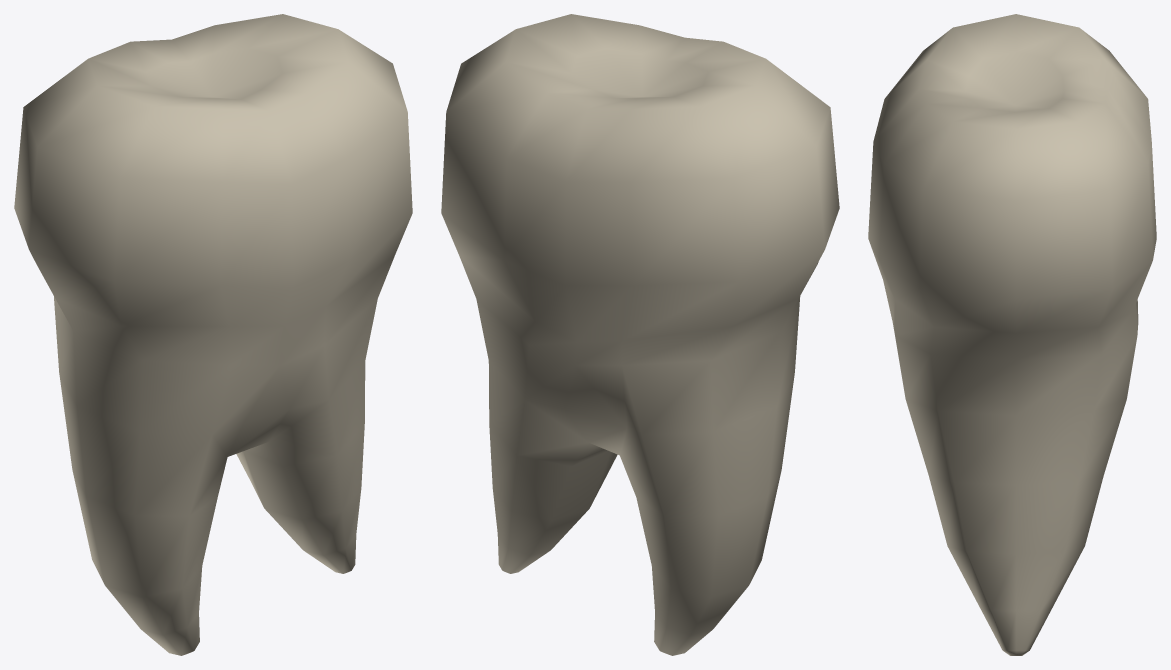
File: Tooth_01.fbx
3 views of the same model, side by side, from view 1: azimuth 30°, elevation 25°; view 2: azimuth 150°, elevation 25°; view 3: azimuth 270°, elevation 25° (orthographic). The views are drawn at different scales.
Visible parts, largest first — view 1: Tooth_01; view 2: Tooth_01; view 3: Tooth_01.
Part boxes in pixels (<box>): Tooth_01: <box>14,14,412,655</box>; Tooth_01: <box>441,14,839,655</box>; Tooth_01: <box>868,14,1156,655</box>.
Size of the model in its own units: 0.0314 by 0.0478 by 0.0221.
